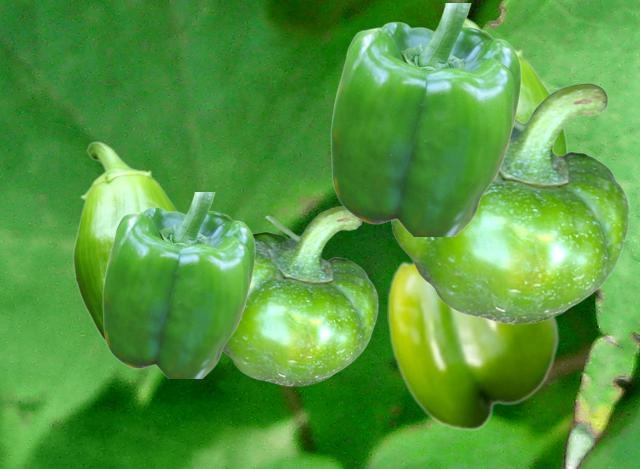bell_pepper: (391, 82, 628, 323), (330, 3, 520, 235), (387, 258, 558, 430), (102, 192, 254, 377), (223, 205, 377, 385), (72, 141, 177, 341), (464, 17, 568, 154)
